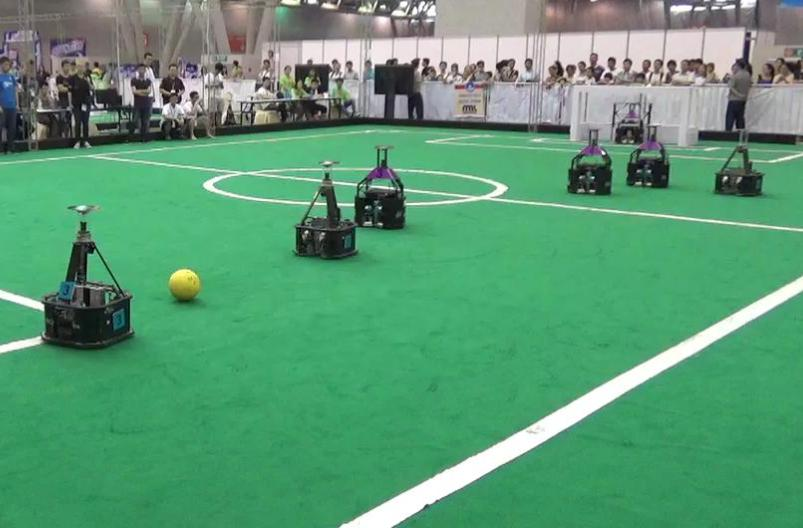robot: (33, 199, 144, 351), (289, 157, 361, 261), (347, 139, 411, 231), (562, 123, 619, 199), (711, 124, 767, 197), (624, 120, 675, 191)
